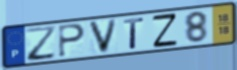8: (183, 10, 210, 44)
P: (58, 23, 87, 59)
T: (122, 16, 145, 50)
V: (87, 18, 119, 55)
Z: (24, 24, 58, 63), (151, 11, 180, 49)
